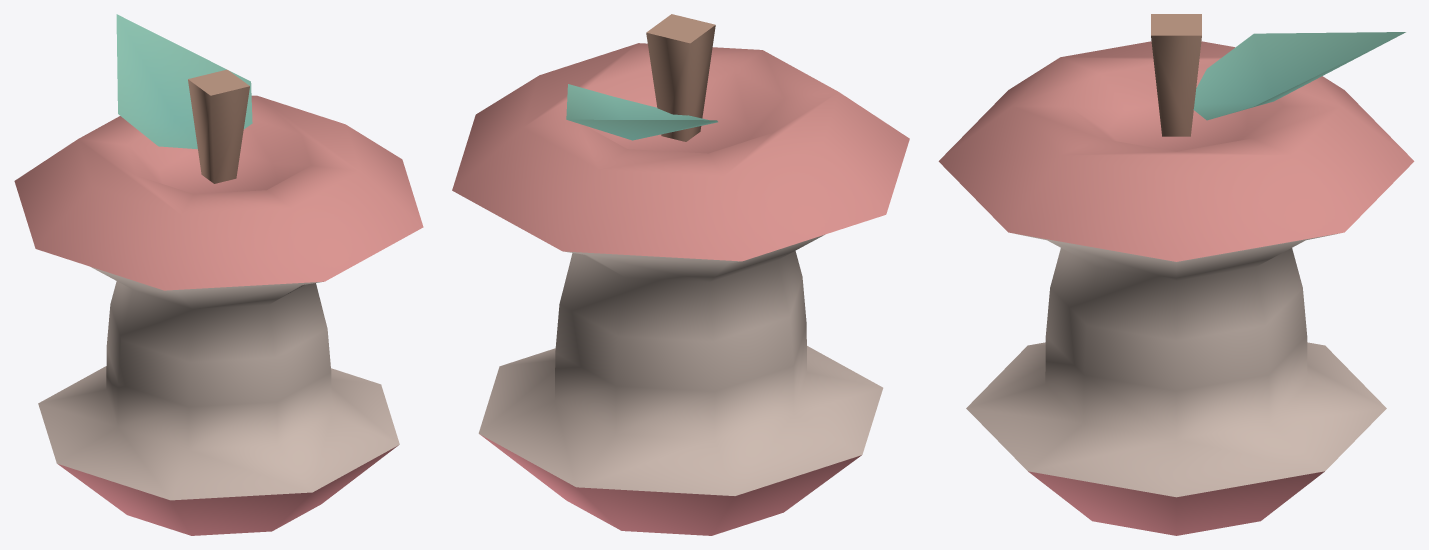
Rendered from apple-core.glb.
3 views of the same model, side by side, from view 1: azimuth 30°, elevation 25°; view 2: azimuth 150°, elevation 25°; view 3: azimuth 270°, elevation 25° (orthographic). The views are drawn at different scales.
Visible parts, largest first — view 1: apple-core; view 2: apple-core; view 3: apple-core.
Part boxes in pixels (x1,y1,x2,y2): apple-core: (14, 14, 423, 535); apple-core: (452, 14, 909, 535); apple-core: (938, 14, 1414, 535).
Bounding box in the file's own units: 0.1786 × 0.1908 × 0.1786.
